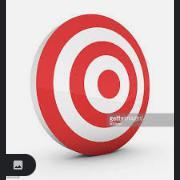target_red: (31, 12, 150, 156)
